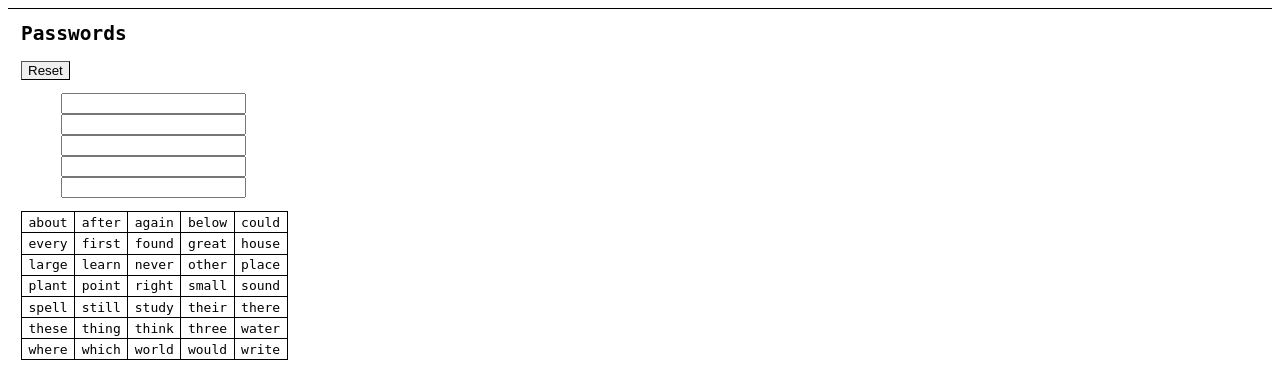
Scenario: PasswordsModule › filters out non-alphabetic characters
The width and height of the screenshot is (1280, 377).
Type "a1b2c3" into the field named "Column 1 letters".
click(154, 104); type("a1b2c3")  # box [61,93,246,114]
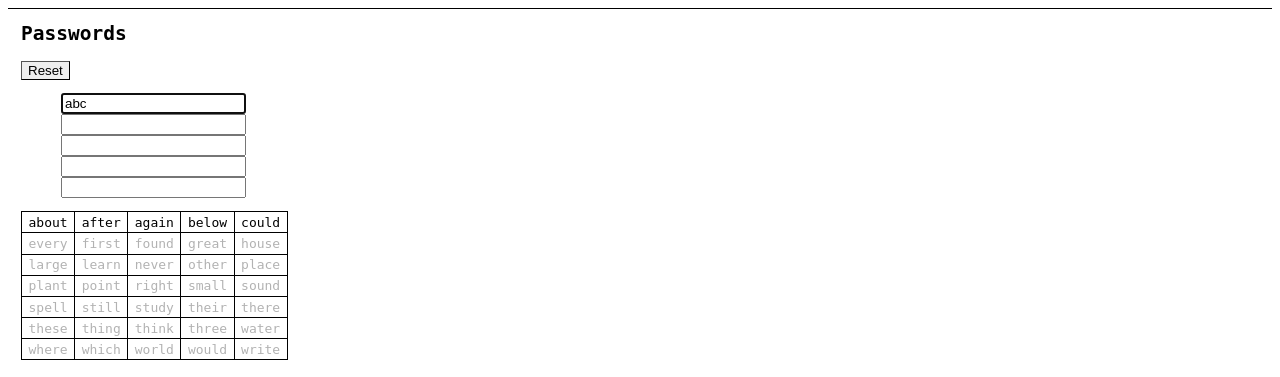
Expected: the field named "Column 1 letters" holds "abc", [61,93,246,114]
